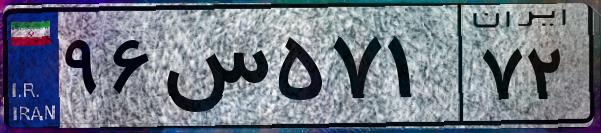1: (385, 28, 445, 110)
2: (525, 38, 570, 115)
5: (270, 28, 330, 110)
6: (110, 28, 158, 98)
7: (330, 28, 385, 110), (475, 38, 525, 113)
9: (57, 26, 110, 100)
س: (158, 20, 270, 120)
